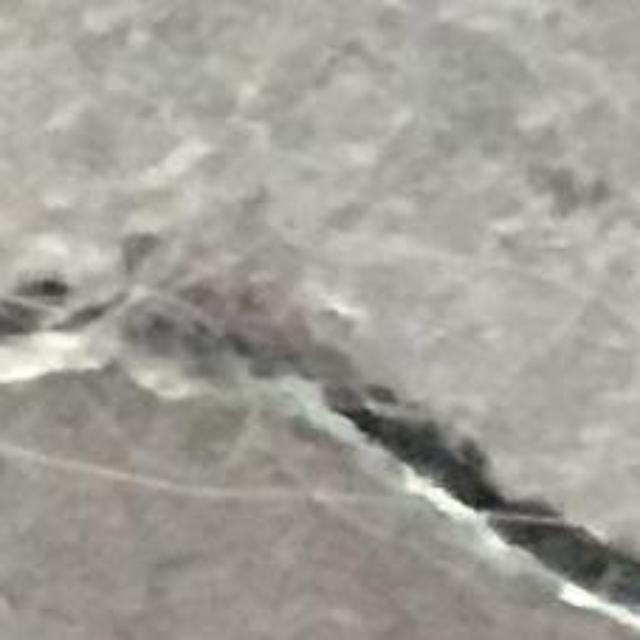crack: (0, 280, 639, 631)
